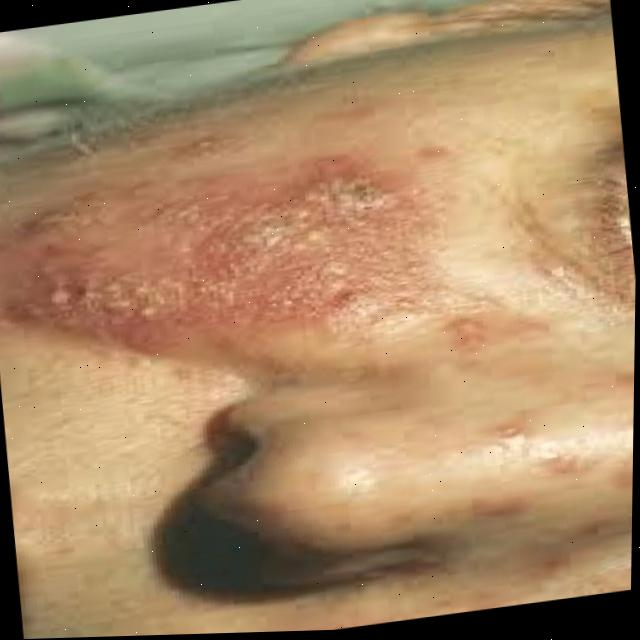Rosacea: (39, 123, 435, 359), (487, 392, 622, 505)
